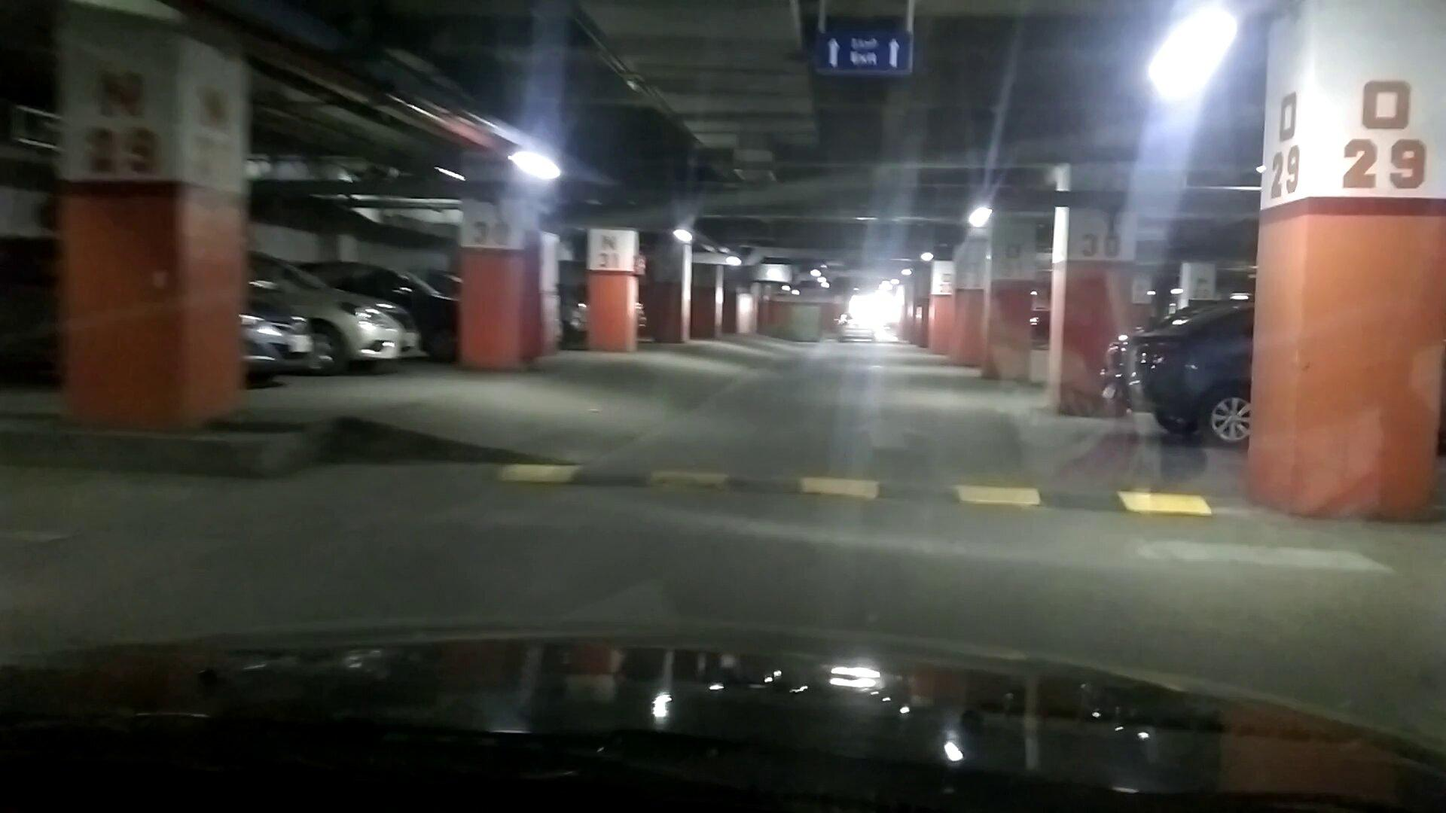Bump: (486, 446, 1237, 534)
